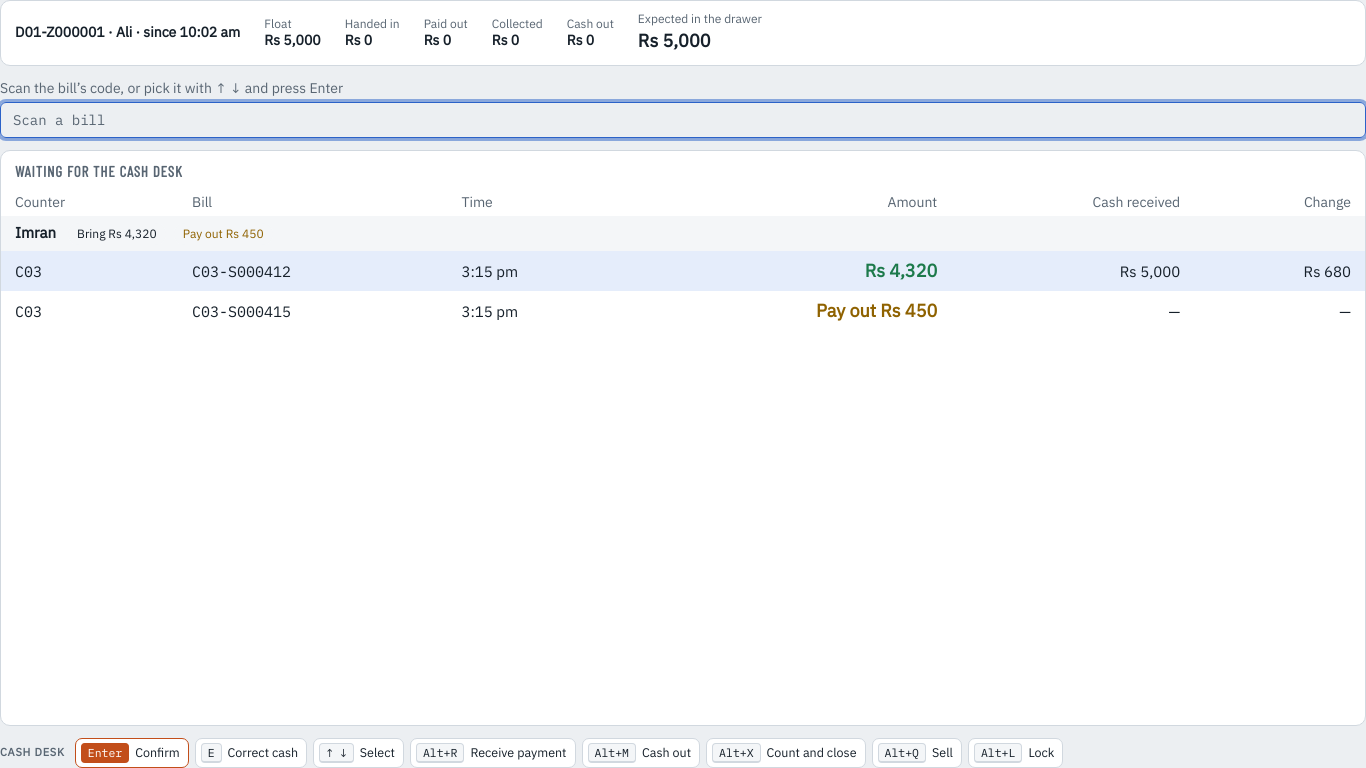
Test: collections, cash-out and the count (W1-11) › receives a payment from a customer found by name, and prints the receipt
The width and height of the screenshot is (1366, 768).
Check: the text "C03-S000412" is shown, box x1=184 y1=251 x2=453 y2=291
Press r
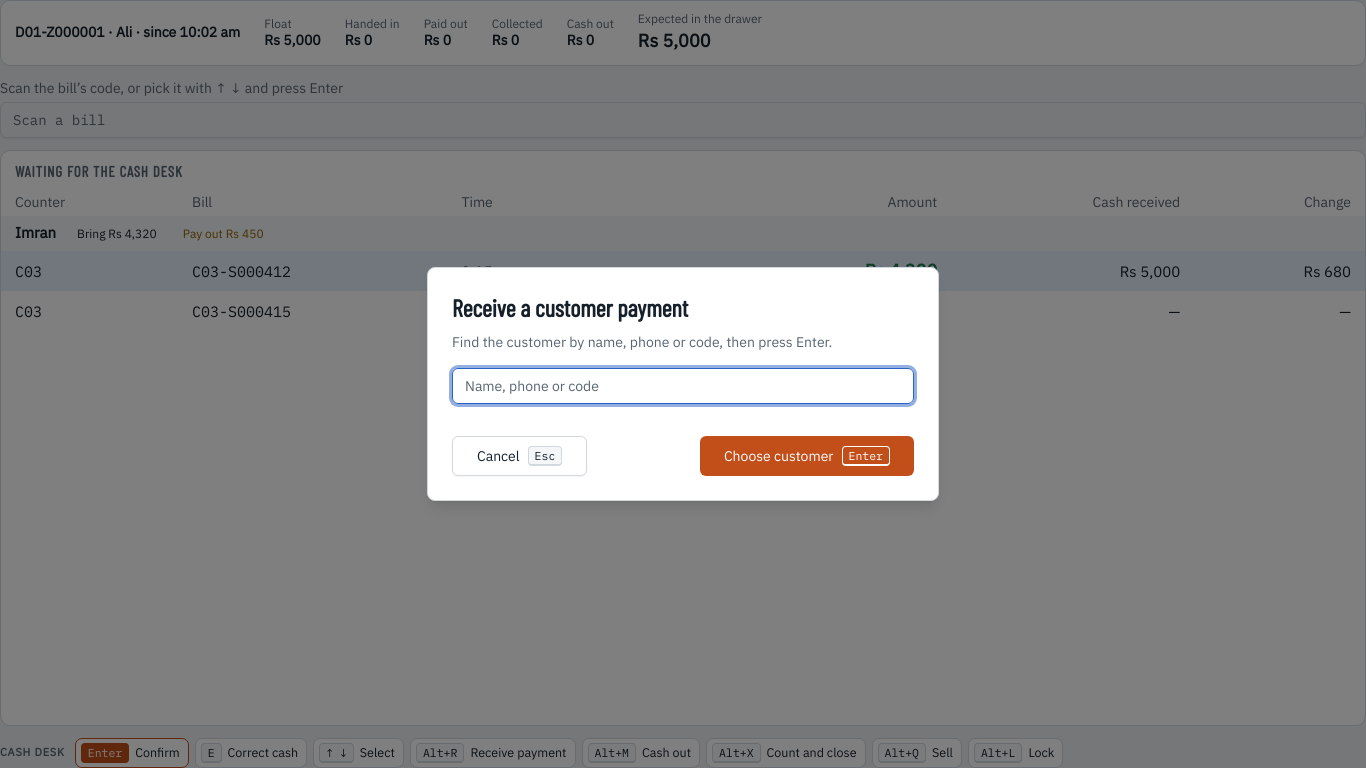
The dialog opens after two reads from the desk: give a loaded run time.
In the dropdown labelled "Name, phone or code": (683, 386) x1=452 y1=368 x2=914 y2=404, type "ali autos"
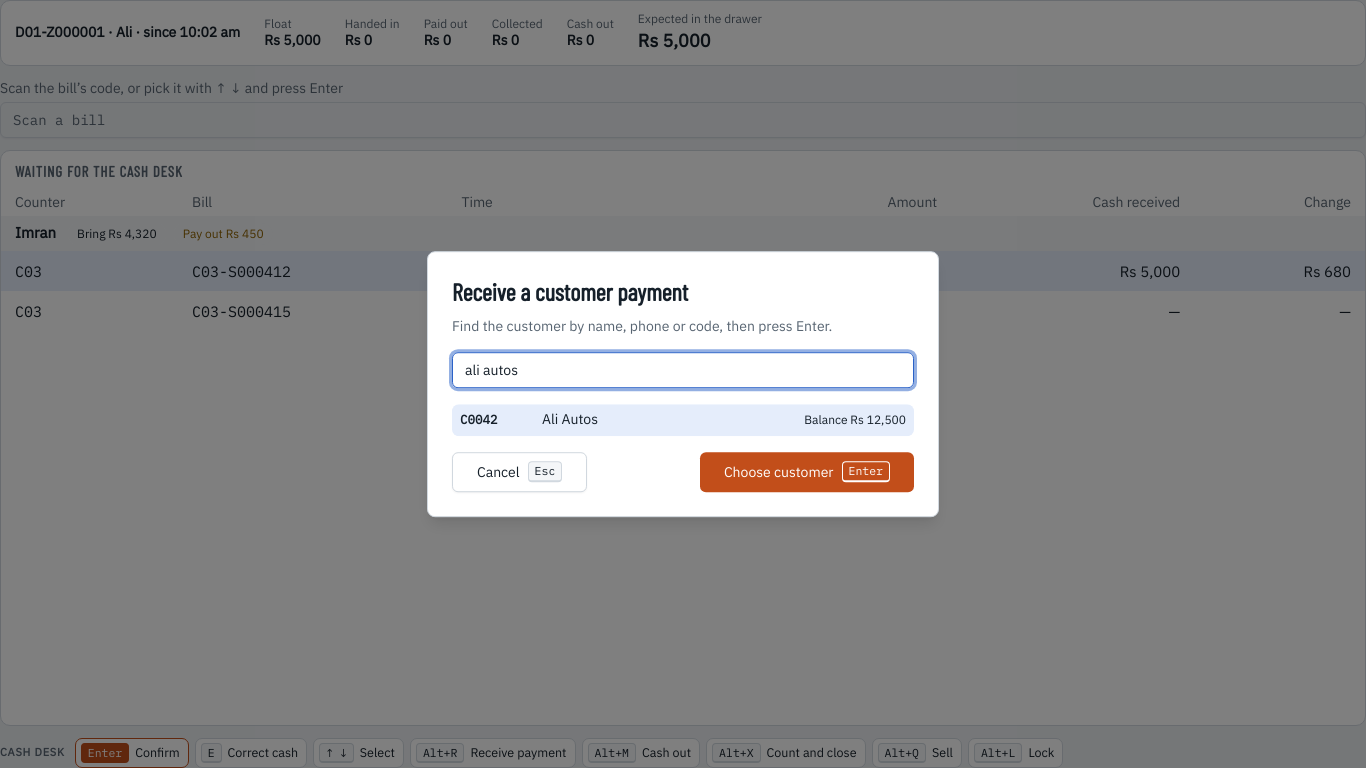
Click the button "Choose customer Enter": (807, 472) x1=700 y1=452 x2=914 y2=492
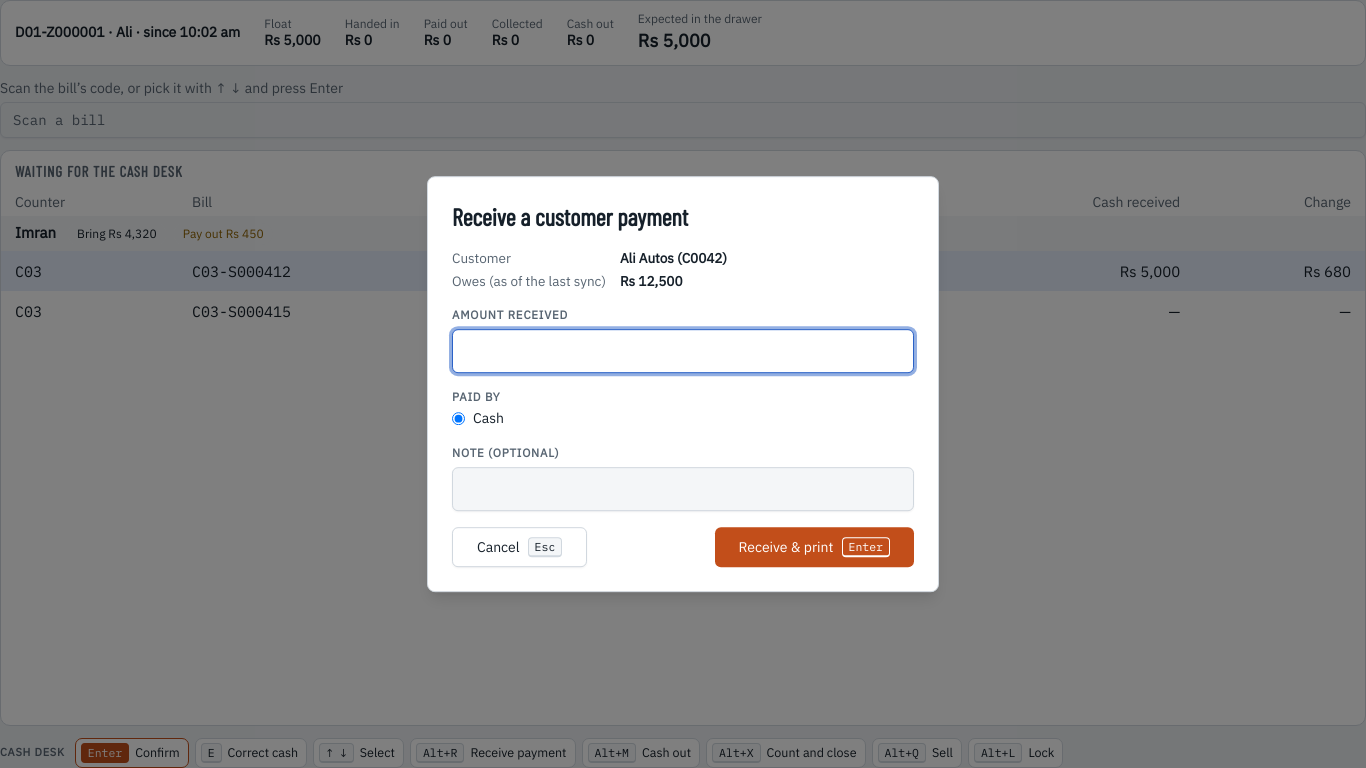
Check: the text "Ali Autos (C0042)" is shown, box x1=620 y1=249 x2=727 y2=267
In the field labelled "Amount received": (683, 351) x1=452 y1=329 x2=914 y2=373, type "5000"
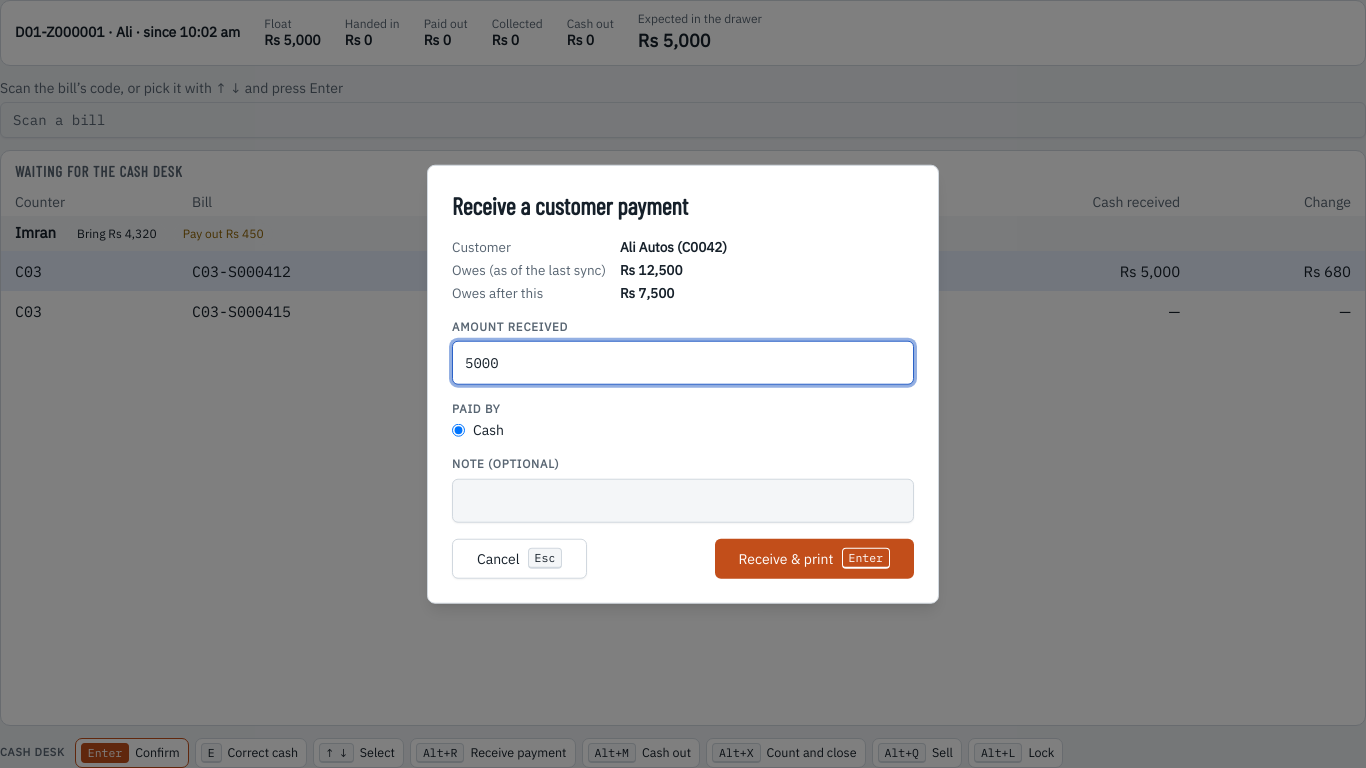
Click the button "Receive & print Enter": (814, 558) x1=714 y1=538 x2=914 y2=578
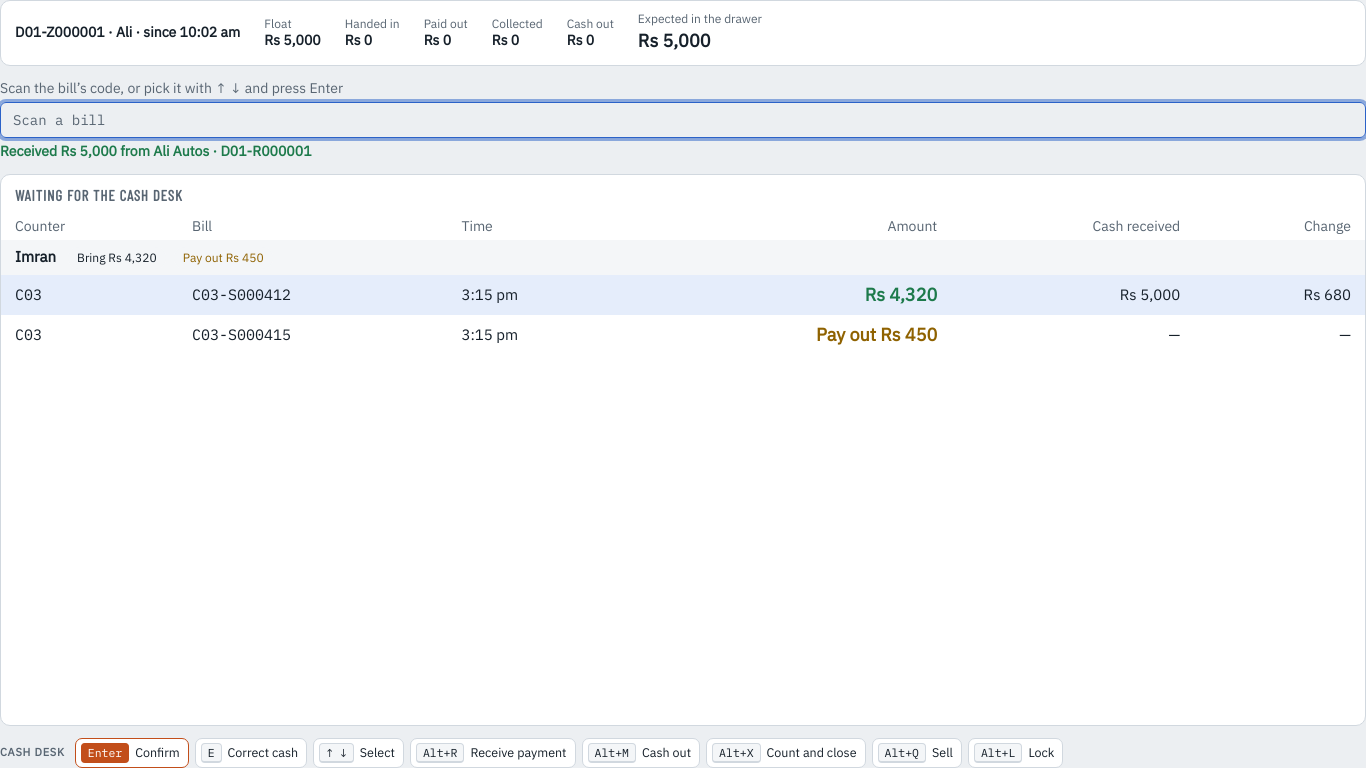
Check: the text "Received Rs 5,000 from Ali Autos · D01-R000001" is shown, box x1=0 y1=142 x2=312 y2=160
